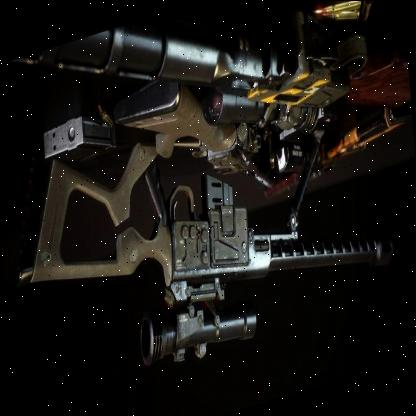rifle: (14, 51, 394, 396)
